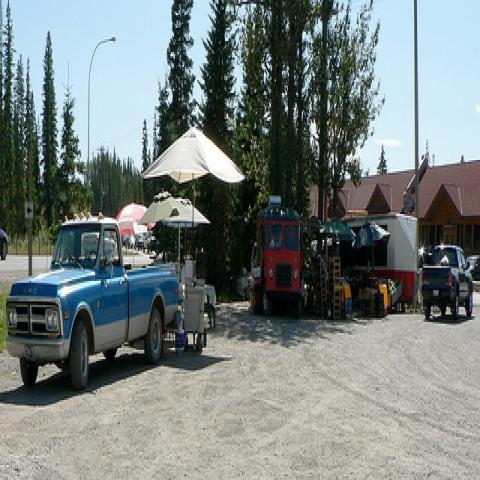car: (465, 253, 479, 281), (0, 225, 8, 260), (418, 247, 432, 267), (143, 230, 155, 253), (134, 234, 144, 252), (123, 233, 133, 250)
truck: (4, 220, 181, 393), (336, 214, 418, 306), (252, 194, 302, 317), (422, 244, 472, 320)
